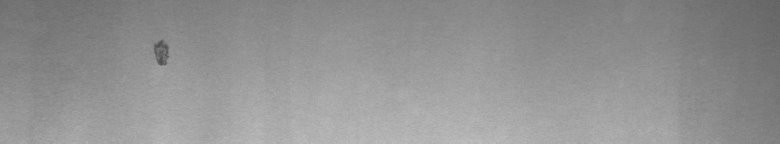fi: (148, 34, 173, 74)
